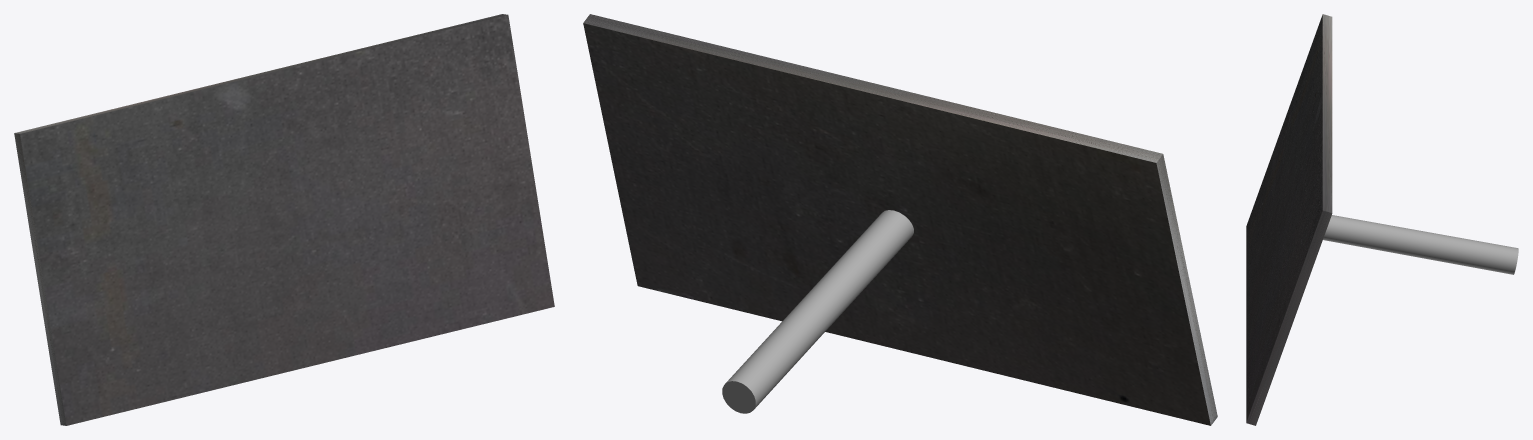
The model's file is sign_uv_mapped.fbx.
3 views of the same model, side by side, from view 1: azimuth 30°, elevation 25°; view 2: azimuth 150°, elevation 25°; view 3: azimuth 270°, elevation 25° (orthographic). The views are drawn at different scales.
Visible parts, largest first — view 1: sign; view 2: sign; view 3: sign.
Boxes of the visible parts, <box> form: sign: <box>14,14,554,425</box>; sign: <box>583,14,1217,425</box>; sign: <box>1246,14,1518,425</box>.
Size of the model in its own units: 218 by 112 by 128.
